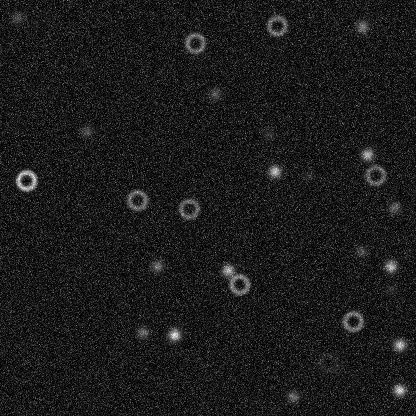Ring: (14, 168, 38, 192), (340, 309, 364, 333), (316, 350, 340, 374), (363, 163, 387, 187), (183, 30, 207, 54), (125, 188, 149, 212), (227, 272, 251, 296), (176, 196, 200, 220), (264, 13, 288, 37)
Spot: (206, 85, 222, 101), (266, 163, 282, 179), (284, 388, 300, 404), (134, 324, 150, 340), (78, 123, 94, 139), (149, 258, 165, 274), (9, 9, 25, 25), (220, 262, 236, 278), (386, 199, 402, 215), (391, 336, 407, 352), (259, 126, 275, 142), (300, 168, 316, 184), (382, 258, 398, 274), (383, 281, 399, 297), (354, 18, 370, 34), (359, 146, 375, 162), (166, 326, 182, 342), (391, 382, 407, 398), (353, 243, 369, 259)
